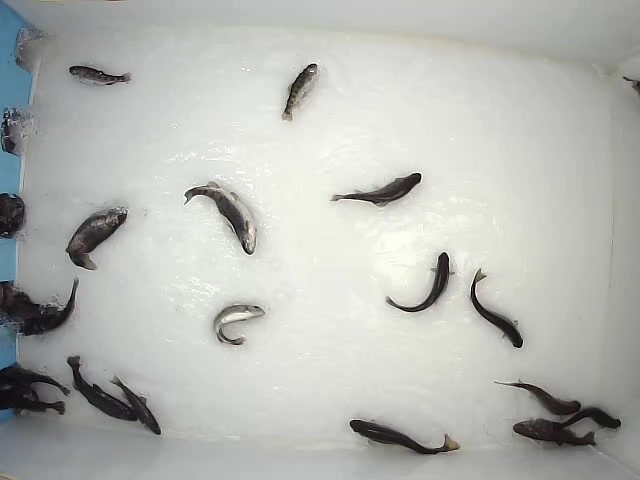fish: (181, 180, 258, 256), (345, 414, 461, 457), (66, 354, 139, 422), (468, 266, 525, 349), (383, 251, 455, 314), (63, 206, 130, 271), (13, 276, 79, 336), (491, 379, 582, 418), (331, 172, 422, 207), (512, 414, 599, 450), (109, 376, 161, 436), (211, 302, 267, 347), (279, 63, 317, 124), (1, 366, 71, 398), (555, 404, 622, 435), (67, 65, 132, 90), (1, 397, 67, 420)
